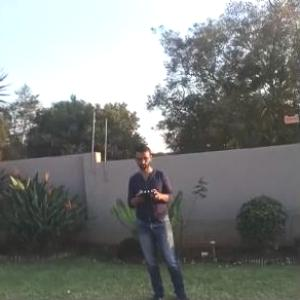follow: (120, 139, 195, 299)
